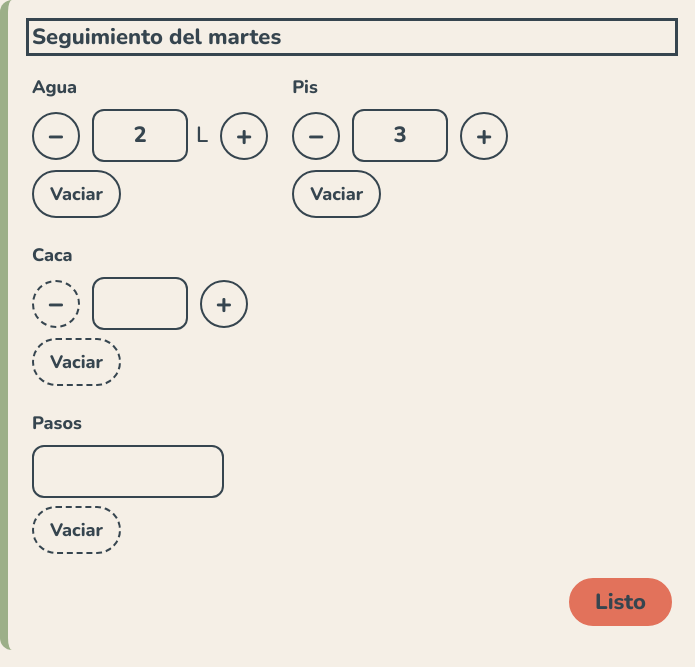
Test: TrackingPanel › Vaciar agua lo deja sin apuntar (null)
Expected: the field labelled "Agua" holds "2", [92,109,188,162]
Click the button with aria-label "Vaciar agua".
click(76, 194)  # box [32,170,121,218]
Wait 600 ms
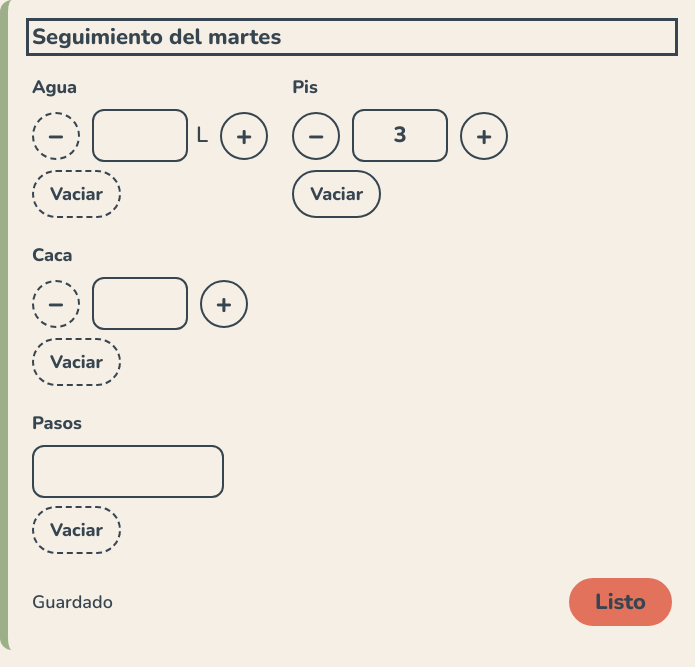
Expected: the field labelled "Agua" is empty, [92,109,188,162]
Expected: the button with aria-label "Vaciar agua" is disabled, [32,170,121,218]
